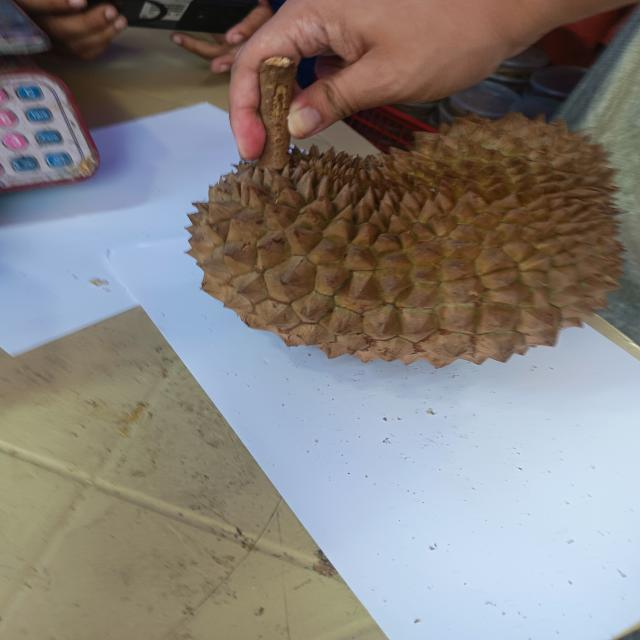mature: (182, 117, 621, 370)
